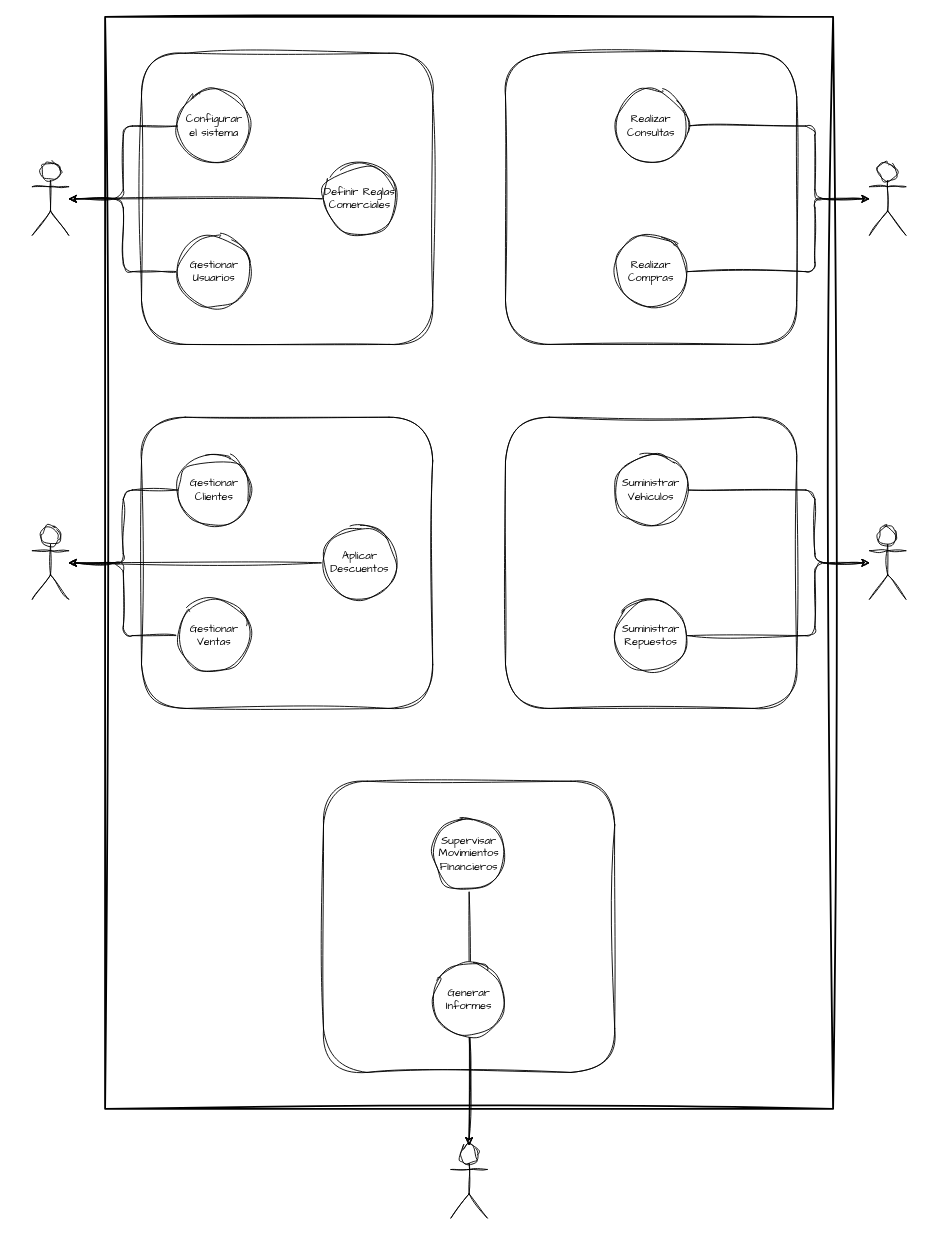
Image size: 930x1252. Some labels were removed from this diagram. The centre of each missing label's shape, as x and y in pixels:
"Administrador" goes at pixel 50 198.
"Cliente" goes at pixel 887 198.
"Contable" goes at pixel 468 1181.
"Proveedor" goes at pixel 887 562.
"Vendedor" goes at pixel 50 562.
